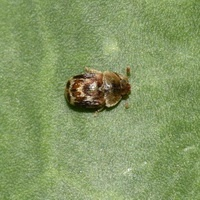insect: (65, 67, 130, 110)
